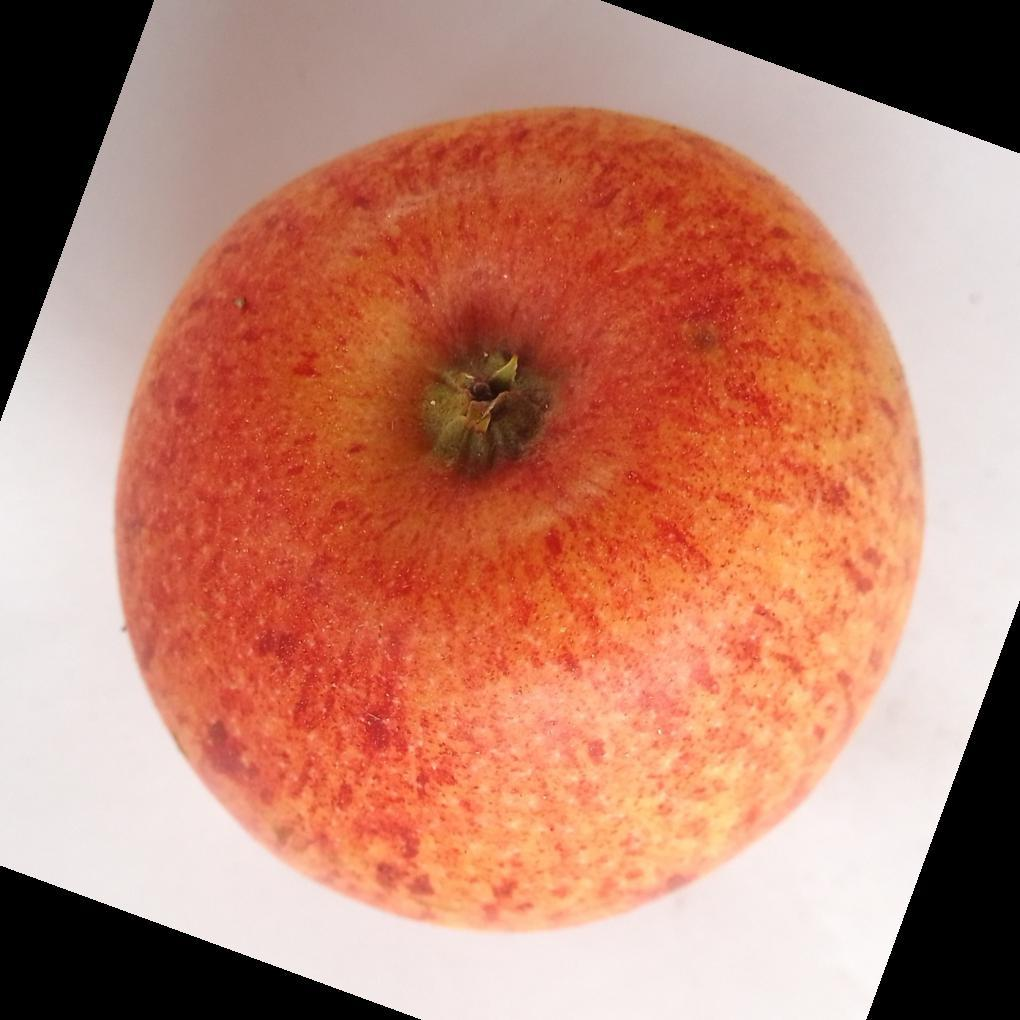FreshGuava: (108, 107, 929, 940)
